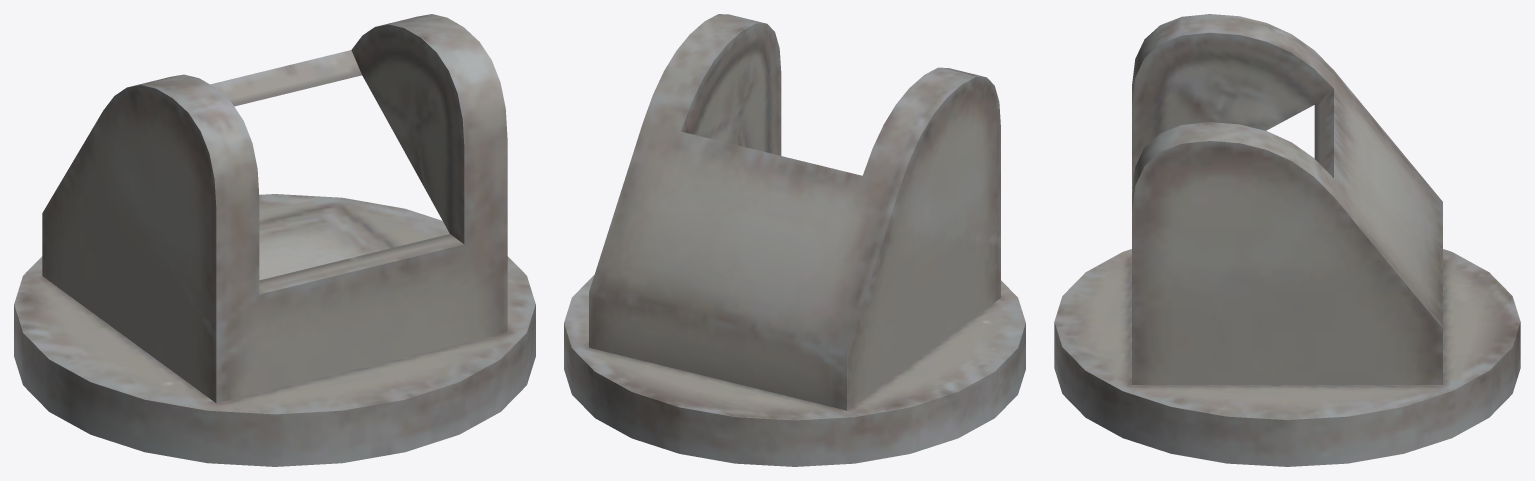
File: SM_Security_Camera_01c.glb
The picture shows the model from 3 angles, left to right: view 1: azimuth 30°, elevation 25°; view 2: azimuth 150°, elevation 25°; view 3: azimuth 270°, elevation 25°; orthographic projection. The views are drawn at different scales.
Parts seen in each view (by area): view 1: SM_Security_Camera_01c; view 2: SM_Security_Camera_01c; view 3: SM_Security_Camera_01c.
Boxes of the visible parts, bbox=[...] form: SM_Security_Camera_01c: bbox=[14, 14, 535, 466]; SM_Security_Camera_01c: bbox=[564, 14, 1025, 466]; SM_Security_Camera_01c: bbox=[1054, 14, 1520, 466].
Size of the model in its own units: 0.0587 by 0.0405 by 0.0587.
Materials: 1 (1 with a texture image).
